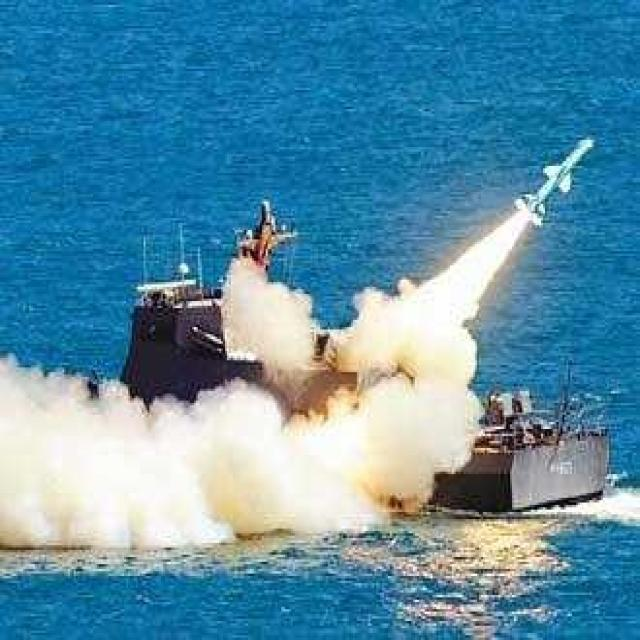missile: (518, 133, 596, 221)
